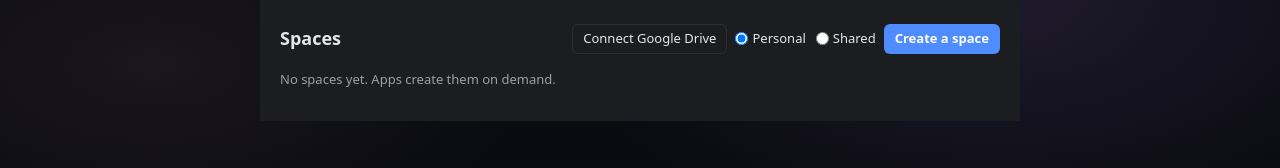
Test: connecting a new source (R3-206) › says what to DO when the Google connection needs re-authorizing
Step 1. Click the button "Connect Google Drive" → [650, 39], box [572, 24, 727, 54]
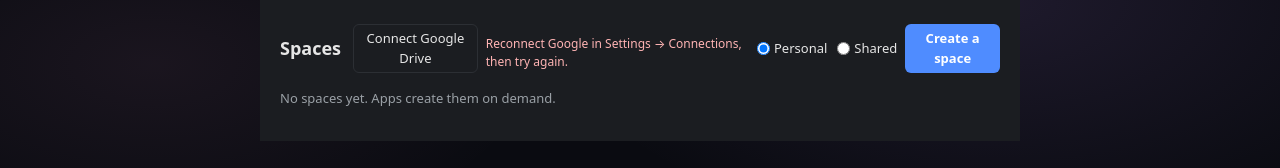
expect the text "Reconnect Google in Settings → Connections, then try again." is shown: met, box [486, 34, 749, 70]
